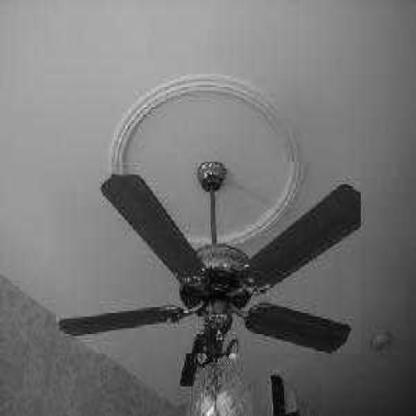ceiling-fan: (56, 162, 362, 354)
